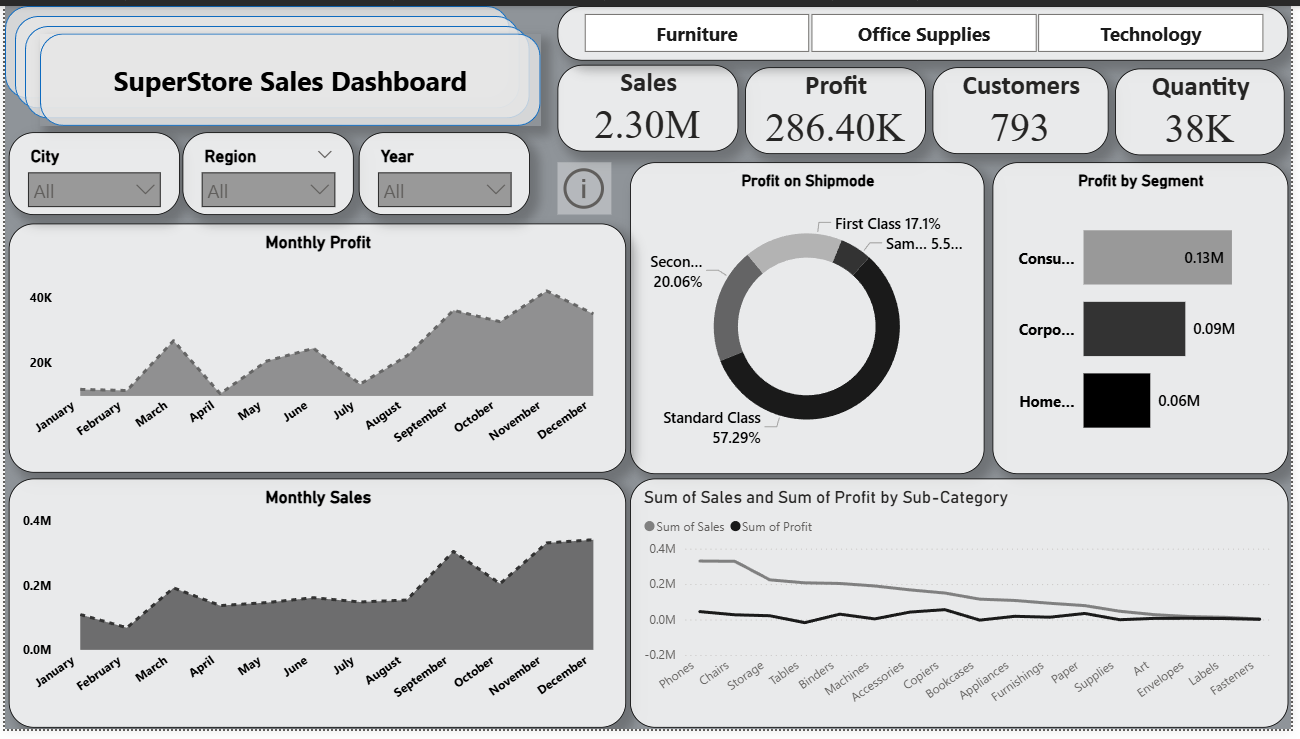

What the dashboard file says about the page in this screenshot:
{"tool":"powerbi","page":{"name":"Super Store Dashboard","canvas":[1280,720],"ordinal":0},"visuals":[{"type":"shape","box":[0,0,502.2,91.9],"z":0},{"type":"shape","box":[10,10,502.2,91.9],"z":1000},{"type":"shape","box":[20,20,502.2,91.9],"z":2000},{"type":"card","title":"Sales","fields":{"Values":["Sum(Orders.Sales)"]},"box":[550.3,59,179.8,86.4],"z":5000},{"type":"card","title":"Profit","fields":{"Values":["Sum(Orders.Profit)"]},"box":[737,60.4,179.8,86.4],"z":6000},{"type":"slicer","title":"Category","fields":{"Values":["Orders.Category"]},"box":[550.3,0,727.3,54],"z":7000},{"type":"card","title":"Customers","fields":{"Values":["Count(Orders.Customer ID)"]},"box":[923.5,60.4,175,86.4],"z":8000},{"type":"card","title":"Quantity","fields":{"Values":["Sum(Orders.Quantity)"]},"box":[1105,61.7,168.8,86.4],"z":9000},{"type":"shape","title":"Super Store ","box":[34.3,27.4,498.1,91.9],"z":10000},{"type":"donutChart","title":"Profit on Shipmode","fields":{"Category":["Orders.Ship Mode"],"Y":["Sum(Orders.Profit)"]},"box":[622,155,352.7,310],"z":11000},{"type":"areaChart","title":"Monthly Profit","fields":{"Y":["Sum(Orders.Profit)"],"Category":["Orders.Ship Date.Variation.Date Hierarchy.Month"]},"box":[4.1,216,614.8,248],"z":12000},{"type":"areaChart","title":"Monthly Sales","fields":{"Y":["Sum(Orders.Sales)"],"Category":["Orders.Ship Date.Variation.Date Hierarchy.Month"]},"box":[4.1,470,614.8,248],"z":13000},{"type":"clusteredBarChart","title":"Profit by Segment","fields":{"Y":["Sum(Orders.Profit)"],"Category":["Orders.Segment"]},"box":[982.5,155,294,310],"z":14000},{"type":"lineChart","fields":{"Category":["Orders.Sub-Category"],"Y":["Sum(Orders.Sales)","Sum(Orders.Profit)"]},"box":[621.6,470.7,655,248],"z":15000},{"type":"slicer","fields":{"Values":["Orders.State"]},"box":[3.7,125.6,170,82.1],"z":16000},{"type":"slicer","fields":{"Values":["Orders.Region"]},"box":[176.6,125.6,170.4,82.1],"z":16001},{"type":"slicer","fields":{"Values":["Orders.Ship Date.Variation.Date Hierarchy.Year"]},"box":[352,125.6,170.4,82.1],"z":16002},{"type":"actionButton","box":[549.8,155.5,53.5,52.2],"z":16003}]}

Visuals, with their boxes in screenshot pixels (x1, y1, x2, y2), scaled from the page's 1280x720 canvas onto the 1300x739 screenshot:
shape: 0 0 510 94
shape: 10 10 520 105
shape: 20 21 530 115
"Sales" card: 559 61 742 149
"Profit" card: 749 62 931 151
"Category" slicer: 559 0 1298 55
"Customers" card: 938 62 1116 151
"Quantity" card: 1122 63 1294 152
"Super Store " shape: 35 28 541 122
"Profit on Shipmode" donutChart: 632 159 990 477
"Monthly Profit" areaChart: 4 222 629 476
"Monthly Sales" areaChart: 4 482 629 737
"Profit by Segment" clusteredBarChart: 998 159 1296 477
lineChart - Orders.Sub-Category x Sum(Orders.Sales): 631 483 1297 738
slicer - Orders.State: 4 129 176 213
slicer - Orders.Region: 179 129 352 213
slicer - Orders.Ship Date.Variation.Date Hierarchy.Year: 358 129 531 213
actionButton: 558 160 613 213
